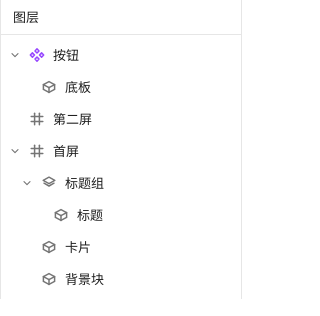
Test case: 图层面板 · 重命名（Tree 行内编辑 → node.update 命令） › 双击进入行内编辑，Enter 提交走命令栈（空白折叠进文档名），Esc 取消不改文档
Double-click the list item "卡片" at (66, 247), box [41,237,91,256]
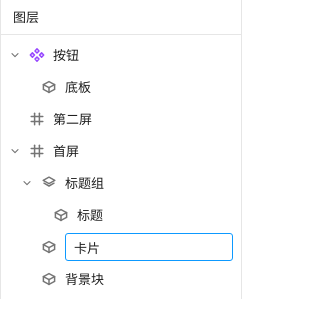
Check: the field holds "卡片"
Replace the text in the field with "  主卡片  " at (149, 247), box [65,233,233,261]
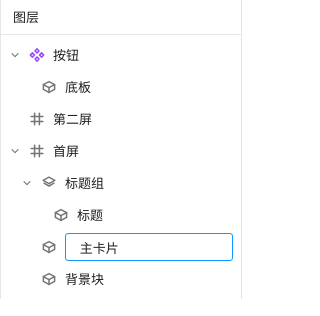
Press Enter in the field, box [65,233,233,261]
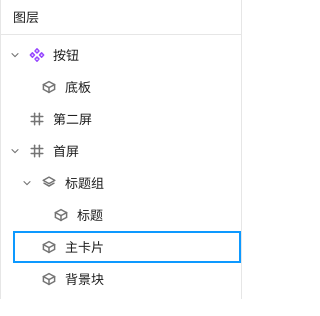
Check: the text "主卡片" is shown, box [65,238,104,256]
Double-click the list item "主卡片" at (72, 247), box [41,237,104,256]
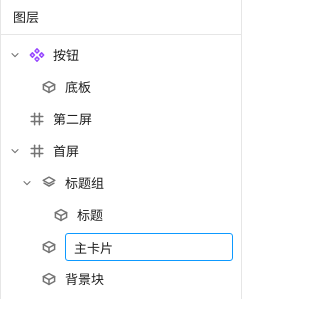
Replace the text in the field with "不该生效" at (149, 247), box [65,233,233,261]
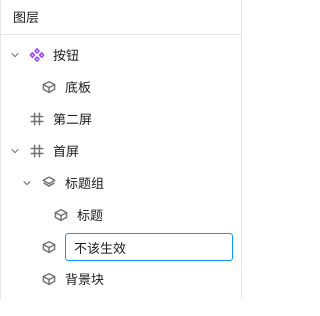
Press Escape in the field, box [65,233,233,261]
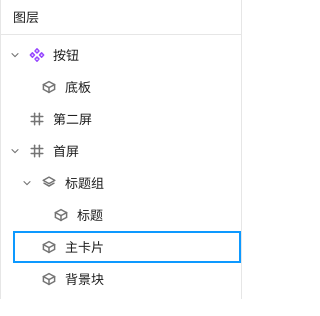
Check: the text "主卡片" is shown, box [65,238,104,256]
